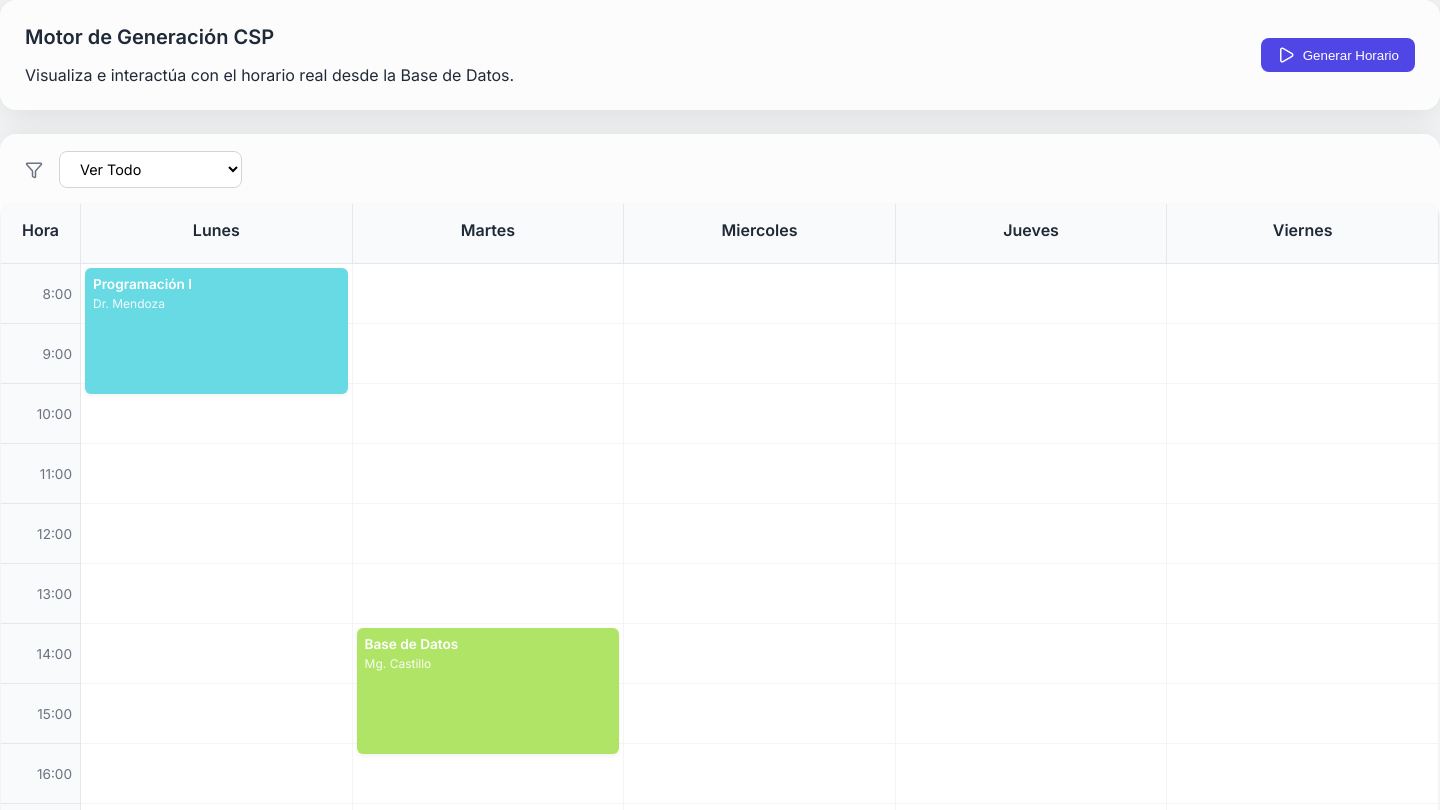
Test: ScheduleGrid › abre modal al hacer clic en un bloque
Click the text "Programación I". click: (142,284)
box: [93,276,192,292]
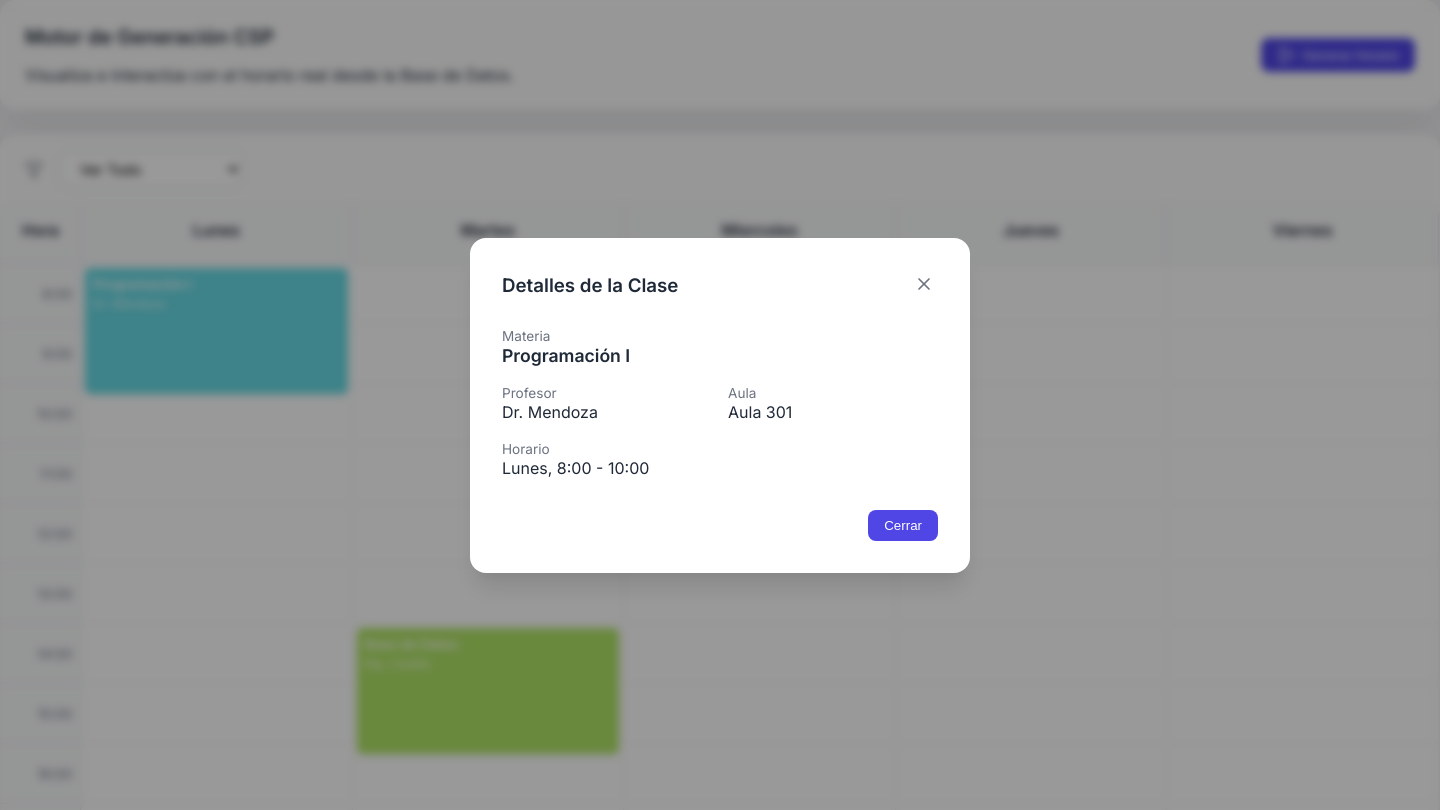
Check: the heading "Detalles de la Clase" is shown, box [502,274,678,296]
